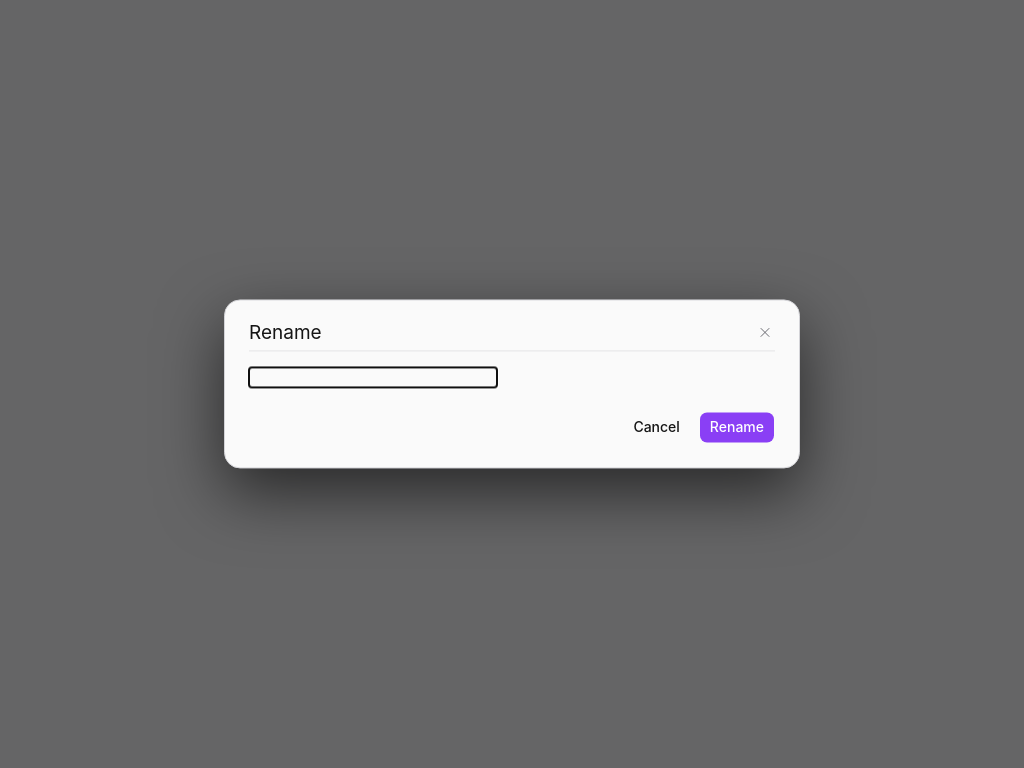
Test: should show a thrown error, stay open and report the failure
Click the button "Rename": (737, 428) [699,412,775,444]
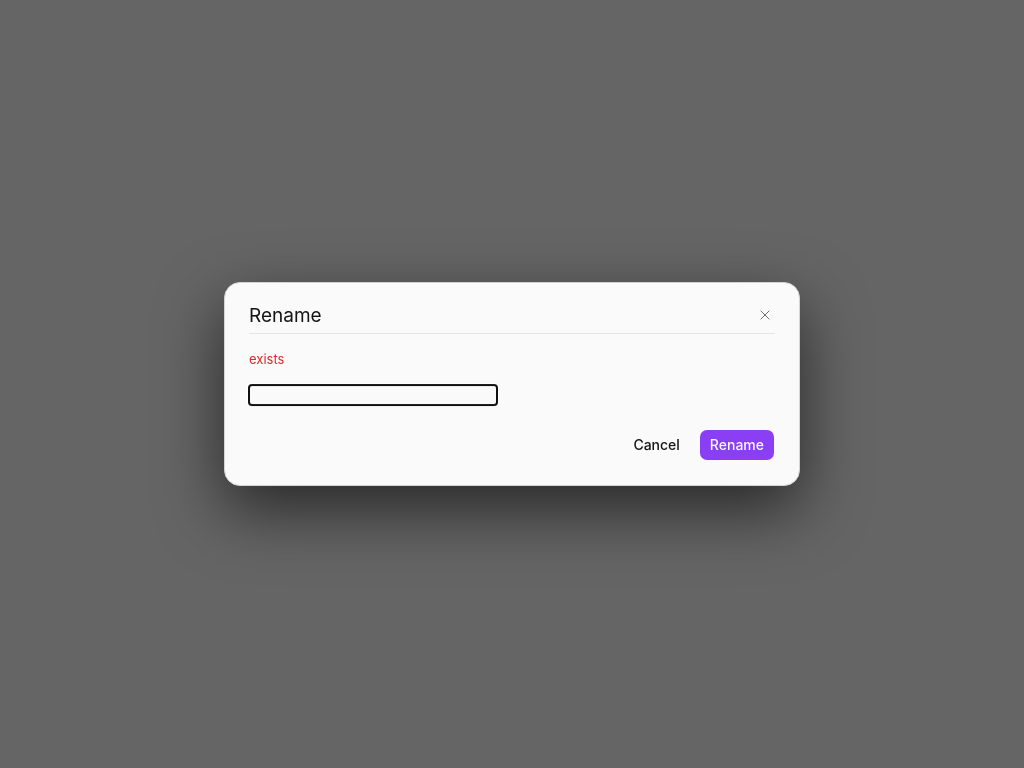
Result: the message reads "exists" at [249,351,284,367]
